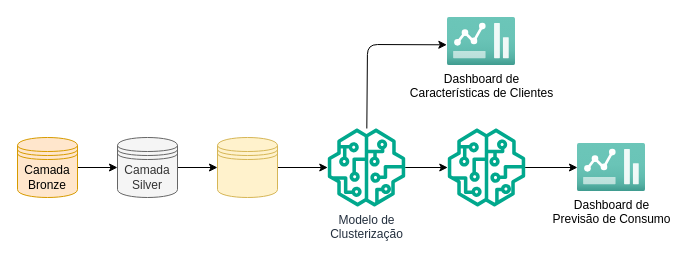
This 688x273 diagram has some shape labels left out. Each missing label, with the box of its shape:
Camada Gold: (216, 136, 278, 198)
Modelo de Previsão de Consumo: (447, 128, 525, 206)
